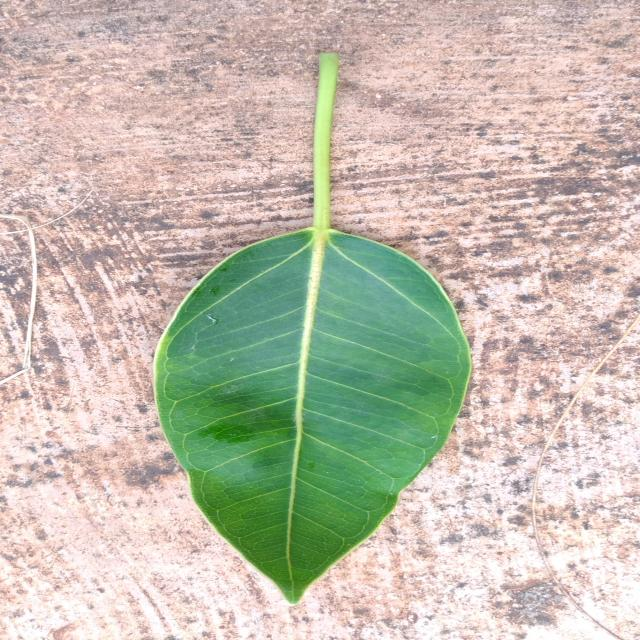camphor: (156, 52, 471, 602)
